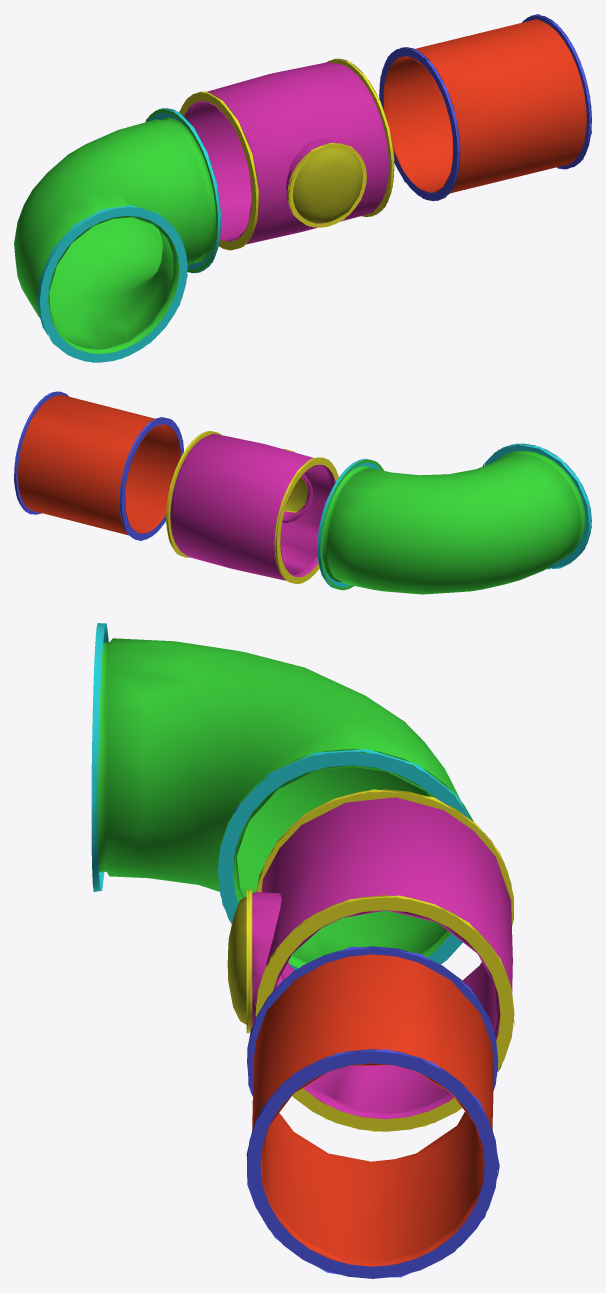
File: tubi2.fbx
The picture shows the model from 3 angles, top to bottom: view 1: azimuth 30°, elevation 25°; view 2: azimuth 150°, elevation 25°; view 3: azimuth 270°, elevation 25°; orthographic projection. The views are drawn at different scales.
Parts seen in each view (by area): view 1: tubo3.1, tubo1, tubo2; view 2: tubo3.1, tubo2, tubo1; view 3: tubo3.1, tubo1, tubo2.
Boxes of the visible parts, <box> form: tubo3.1: <box>14,108,221,362</box>; tubo1: <box>379,14,591,201</box>; tubo2: <box>179,58,394,250</box>; tubo3.1: <box>317,443,591,594</box>; tubo2: <box>166,430,338,583</box>; tubo1: <box>14,391,183,540</box>; tubo3.1: <box>91,623,473,969</box>; tubo1: <box>246,946,499,1278</box>; tubo2: <box>227,789,514,1131</box>.
Bounding box in the file's own units: 1740 × 423 × 666.
